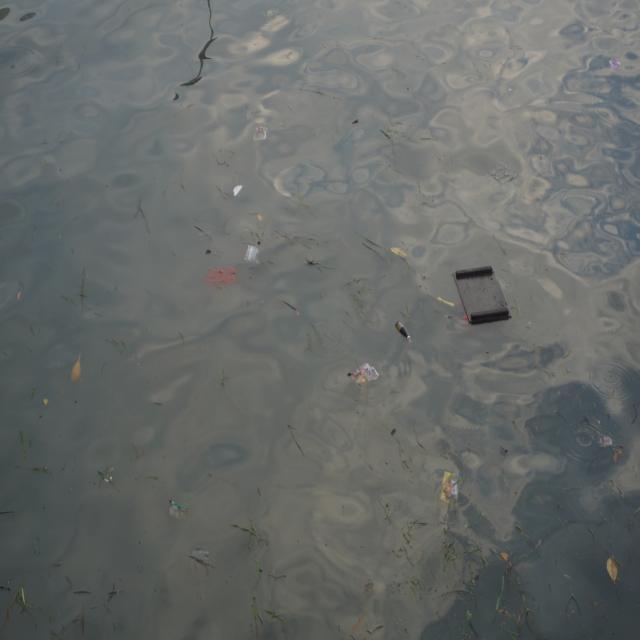Botol Plastik: (395, 321, 413, 346)
Bungkus Makanan: (349, 360, 381, 394), (441, 470, 461, 508), (244, 245, 261, 267), (438, 295, 456, 312), (254, 124, 270, 142), (600, 436, 615, 449)
Bungkus Minuman: (167, 499, 191, 528)
Kantong Plastik: (205, 264, 238, 290)
